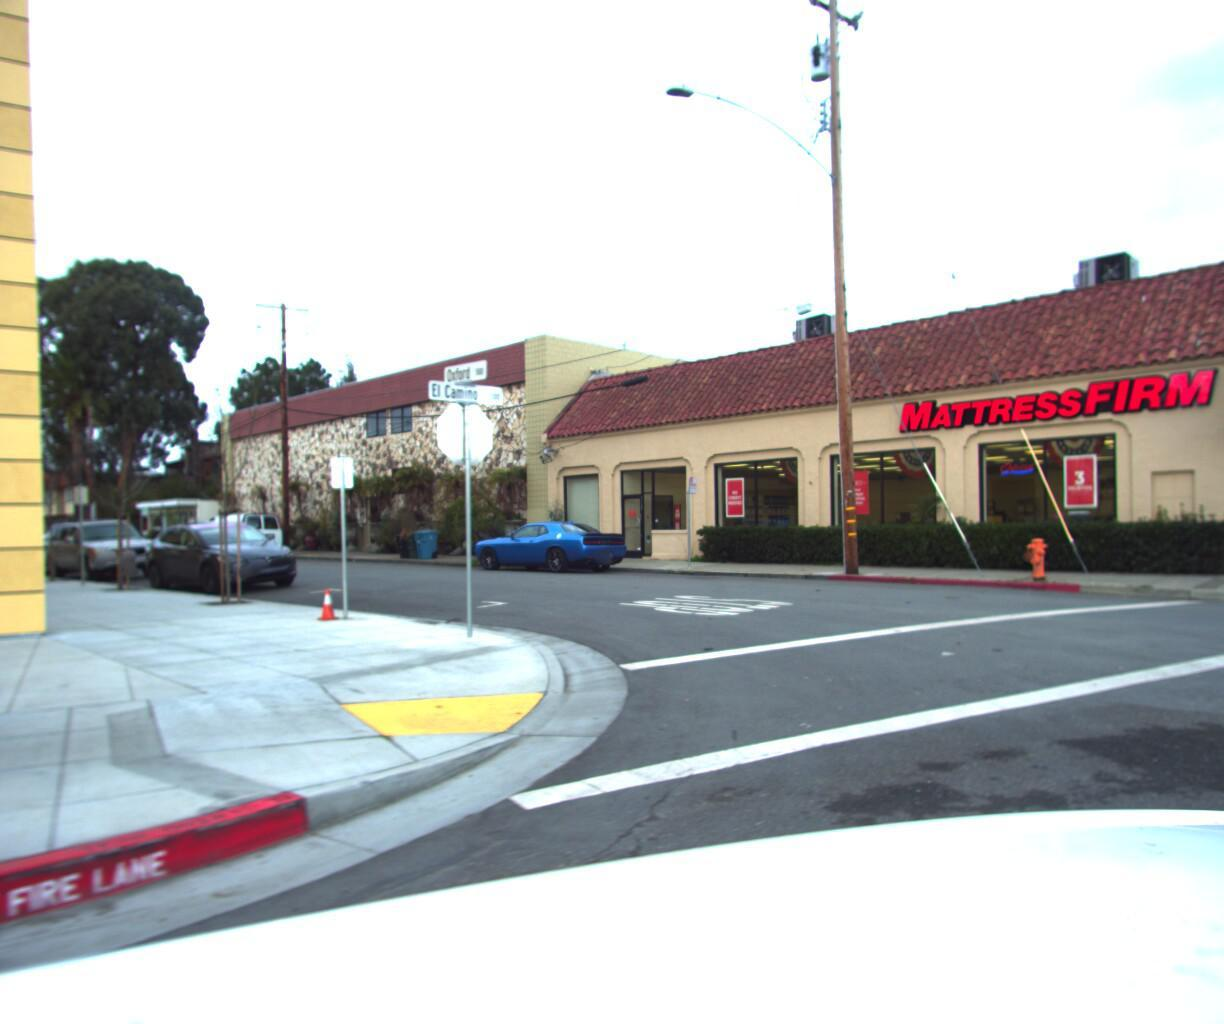car: (136, 511, 316, 590), (468, 513, 633, 570), (41, 510, 171, 576), (196, 502, 287, 550)
